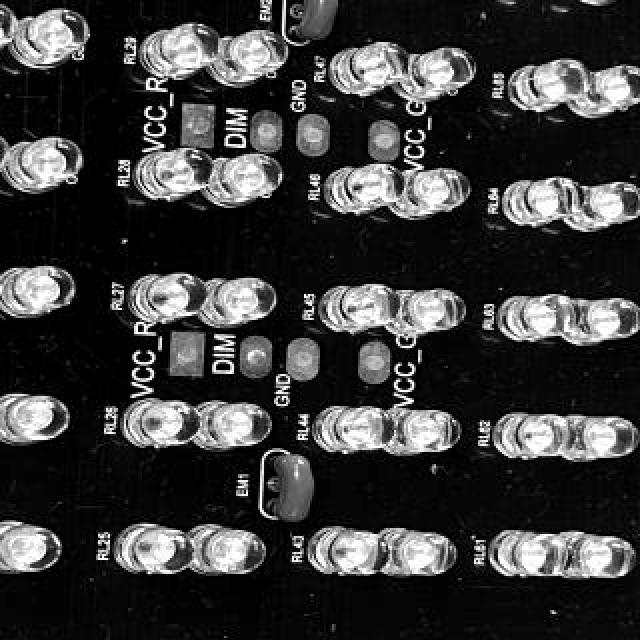EMC filter: (266, 452, 314, 522), (288, 0, 338, 42)
